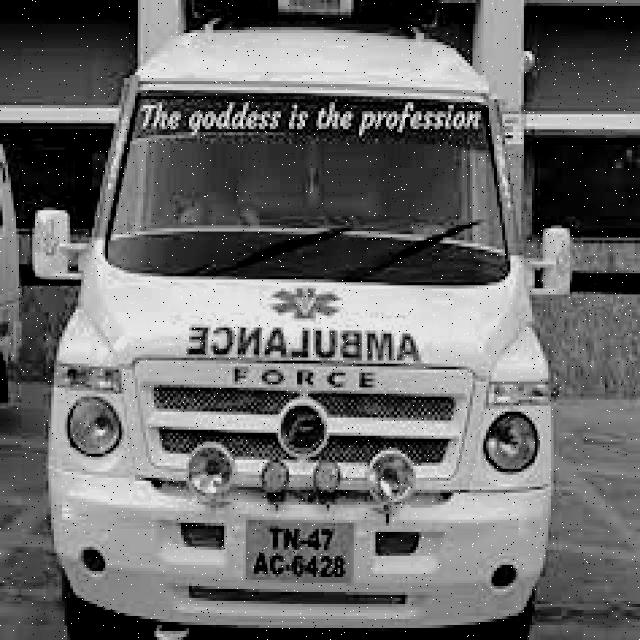LCV: (48, 4, 555, 634)
